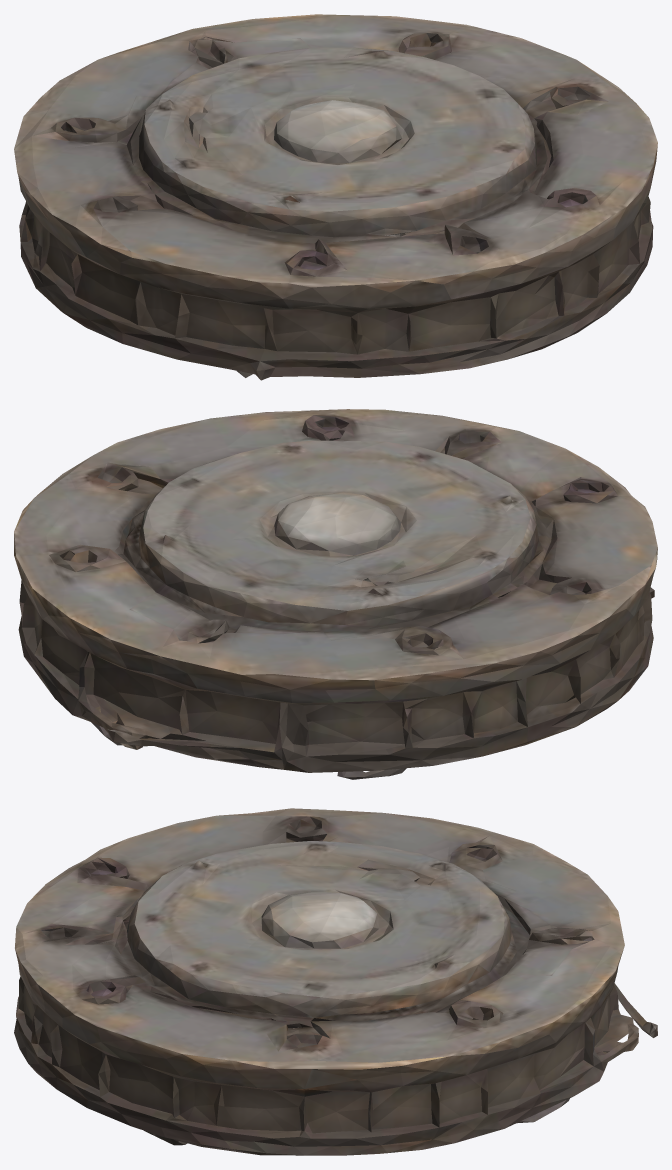
File: ss_buried_charge.glb
3 views of the same model, one above another, from view 1: azimuth 30°, elevation 25°; view 2: azimuth 150°, elevation 25°; view 3: azimuth 270°, elevation 25° (orthographic). The views are drawn at different scales.
Visible parts, largest first — view 1: world; view 2: world; view 3: world.
Boxes of the visible parts, x1,y1,x2,y2 form: world: (14,14,657,380); world: (14,409,657,779); world: (14,808,657,1155).
Size of the model in its own units: 0.9494 by 0.2684 by 0.9993.
Materials: 1 (1 with a texture image).
